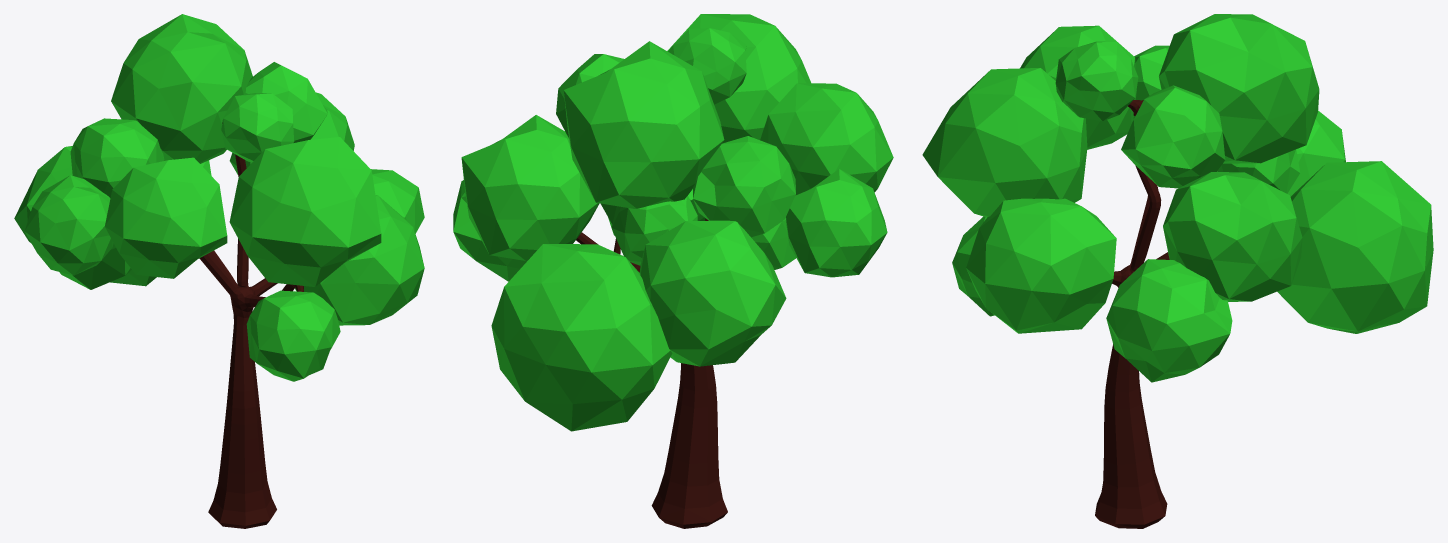
File: tree.obj
The picture shows the model from 3 angles, left to right: view 1: azimuth 30°, elevation 25°; view 2: azimuth 150°, elevation 25°; view 3: azimuth 270°, elevation 25°; orthographic projection. The views are drawn at different scales.
Visible parts, largest first — view 1: Plane1; view 2: Plane1; view 3: Plane1.
Boxes of the visible parts, x1,y1,x2,y2 form: Plane1: (14,14,424,528); Plane1: (453,14,893,528); Plane1: (922,14,1433,528).
Bounding box in the file's own units: 931 × 1056 × 985.
